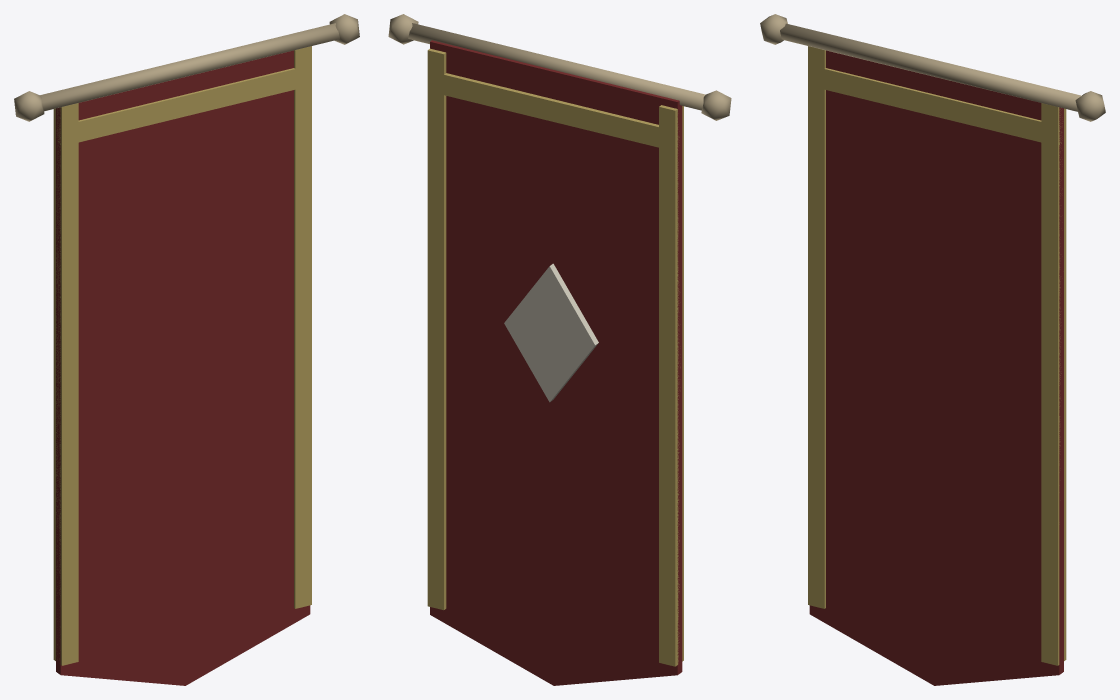
The model's file is floaty_gross_banner_v0.glb.
3 renders of one model, left to right at view 1: azimuth 30°, elevation 25°; view 2: azimuth 150°, elevation 25°; view 3: azimuth 330°, elevation 25°, orthographic.
Parts seen in each view (by area): view 1: floaty_gross_banner_v0; view 2: floaty_gross_banner_v0; view 3: floaty_gross_banner_v0.
Boxes of the visible parts, left/top/right/bottom form: floaty_gross_banner_v0: left=14, top=14, right=359, bottom=685; floaty_gross_banner_v0: left=388, top=14, right=731, bottom=685; floaty_gross_banner_v0: left=760, top=14, right=1105, bottom=685.
Size of the model in its own units: 1.04 by 1.84 by 0.0933.
